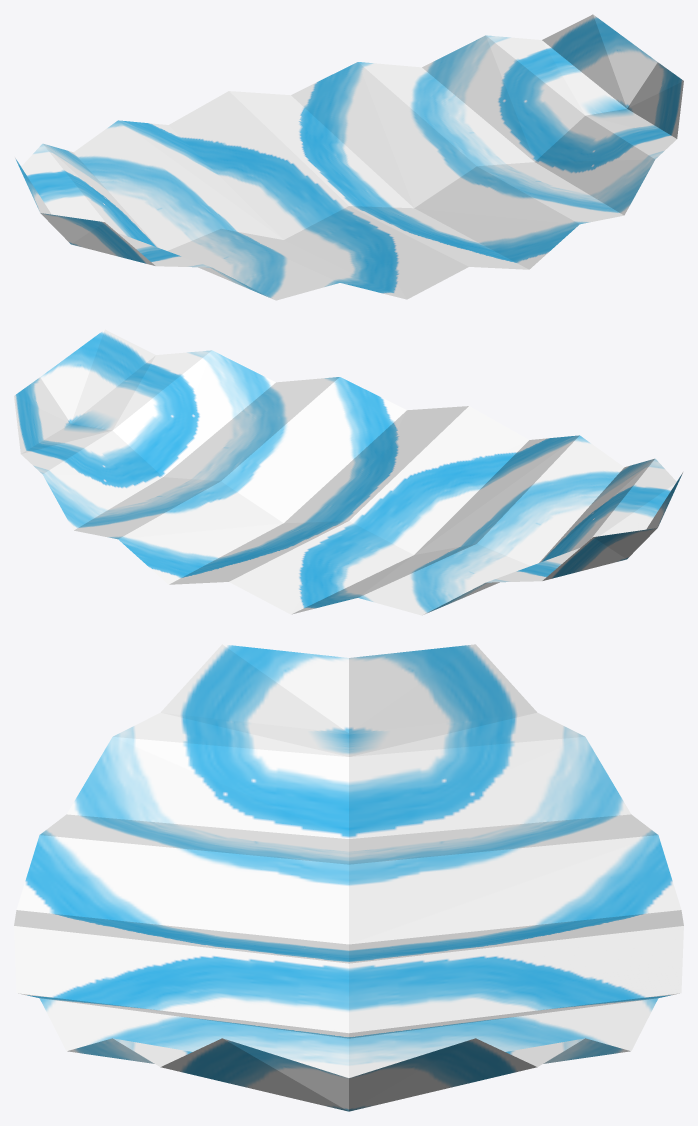
File: mod_chip.obj
3 views of the same model, one above another, from view 1: azimuth 30°, elevation 25°; view 2: azimuth 150°, elevation 25°; view 3: azimuth 270°, elevation 25° (orthographic). The views are drawn at different scales.
Visible parts, largest first — view 1: Circle.002; view 2: Circle.002; view 3: Circle.002.
Boxes of the visible parts, left/top/right/bottom form: Circle.002: left=15, top=14, right=683, bottom=300; Circle.002: left=14, top=329, right=682, bottom=615; Circle.002: left=14, top=644, right=683, bottom=1111.
Size of the model in its own units: 3.15 by 0.5165 by 2.12.
